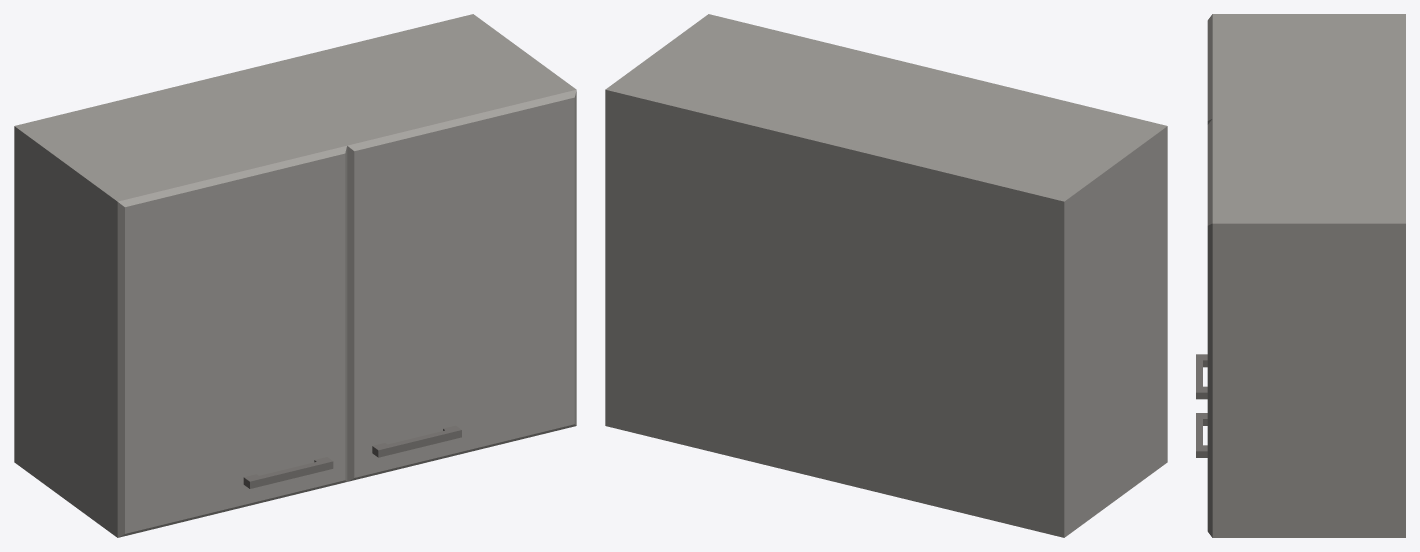
The model's file is SM_Props_Interior_House_Kitchen_Cupboards_02.fbx.
3 views of the same model, side by side, from view 1: azimuth 30°, elevation 25°; view 2: azimuth 150°, elevation 25°; view 3: azimuth 270°, elevation 25° (orthographic). The views are drawn at different scales.
Visible parts, largest first — view 1: SM_Props_Interior_House_Kitchen_Cupboards_02; view 2: SM_Props_Interior_House_Kitchen_Cupboards_02; view 3: SM_Props_Interior_House_Kitchen_Cupboards_02.
Boxes of the visible parts, <box> form: SM_Props_Interior_House_Kitchen_Cupboards_02: <box>14,14,576,537</box>; SM_Props_Interior_House_Kitchen_Cupboards_02: <box>605,14,1167,537</box>; SM_Props_Interior_House_Kitchen_Cupboards_02: <box>1196,14,1405,537</box>.
Size of the model in its own units: 100 by 70 by 42.3.
